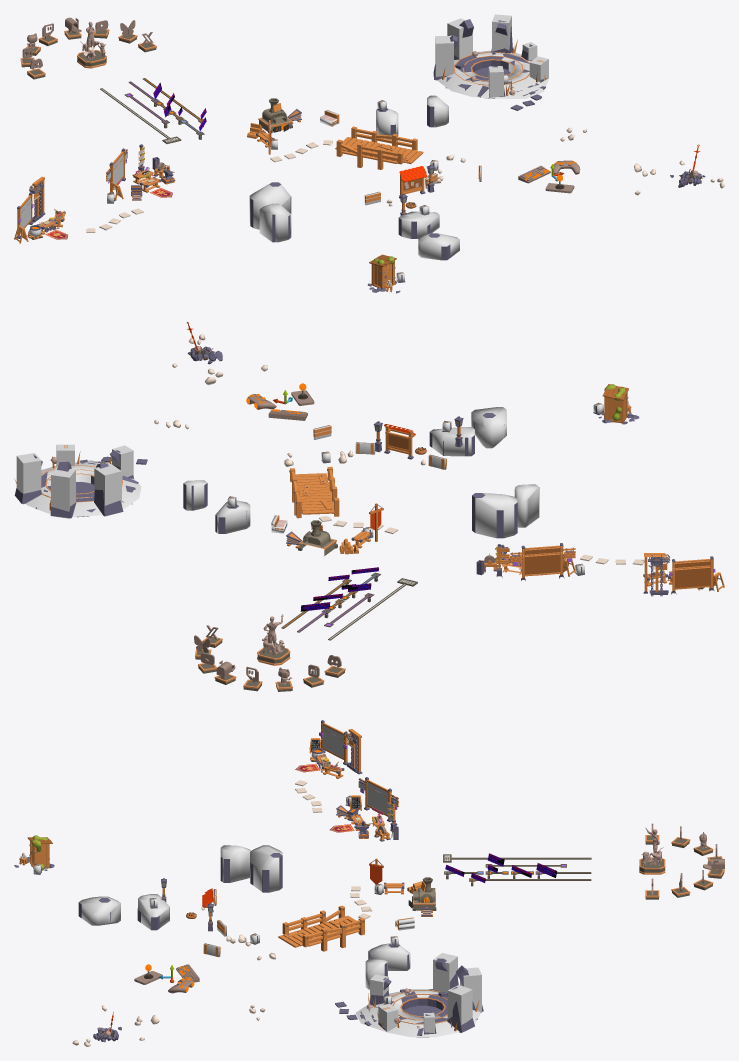
Rendered from scenery.glb.
The picture shows the model from 3 angles, top to bottom: view 1: azimuth 30°, elevation 25°; view 2: azimuth 150°, elevation 25°; view 3: azimuth 270°, elevation 25°; orthographic projection. The views are drawn at different scales.
Parts seen in each view (by area): view 1: bridge.001, trimesh.001, Cube.159, hull.016, Cylinder.021, hull.015, hull.011, hull.012, Cube.165, Cube.172, Cube.164, Cube.146 (+4 smaller); view 2: bridge.001, trimesh.001, hull.015, Cube.159, Cube.172, hull.011, Cube.164, hull.012, Cube.146, hull.016, Cube.165, hull.014 (+2 smaller); view 3: bridge.001, trimesh.001, hull.015, Cube.159, Cube.172, hull.011, Cylinder.021, hull.016, hull.014, Cube.146, hull.012, Cube.165 (+2 smaller).
Boxes of the visible parts, <box> form: bridge.001: <box>335,126,423,169</box>; trimesh.001: <box>438,50,549,98</box>; Cube.159: <box>20,29,156,79</box>; hull.016: <box>259,203,291,242</box>; Cylinder.021: <box>454,53,545,96</box>; hull.015: <box>249,183,290,229</box>; hull.011: <box>418,233,459,260</box>; hull.012: <box>399,211,439,238</box>; Cube.165: <box>435,35,453,80</box>; Cube.172: <box>433,19,532,97</box>; Cube.164: <box>447,18,472,58</box>; Cube.146: <box>492,14,511,51</box>; bridge.001: <box>290,466,339,518</box>; trimesh.001: <box>26,460,141,517</box>; hull.015: <box>475,493,517,538</box>; Cube.159: <box>195,635,345,691</box>; Cube.172: <box>14,450,133,518</box>; hull.011: <box>471,407,506,448</box>; Cube.164: <box>51,467,75,518</box>; hull.012: <box>430,427,474,456</box>; Cube.146: <box>16,453,41,504</box>; hull.016: <box>514,484,538,527</box>; Cube.165: <box>94,464,121,516</box>; hull.014: <box>215,500,250,533</box>; bridge.001: <box>278,905,364,951</box>; trimesh.001: <box>355,989,480,1037</box>; hull.015: <box>250,845,282,892</box>; Cube.159: <box>645,835,724,899</box>; Cube.172: <box>370,958,483,1034</box>; hull.011: <box>79,896,120,925</box>; Cylinder.021: <box>360,991,447,1025</box>; hull.016: <box>220,845,250,882</box>; hull.014: <box>368,943,410,970</box>; Cube.146: <box>447,985,472,1032</box>; hull.012: <box>137,894,169,929</box>; Cube.165: <box>433,953,457,993</box>.
Size of the model in its own units: 83.84 by 8.2 by 85.35.
37 materials, 10 textured.
